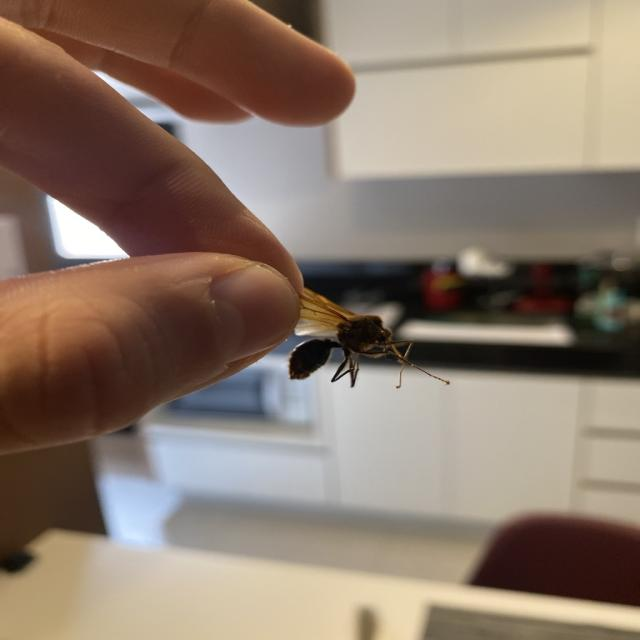Dead-Male-Alate: (261, 277, 450, 389)
